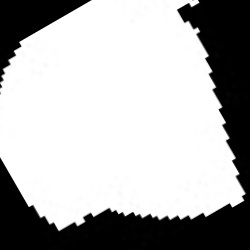spot: (1, 1, 243, 230)
